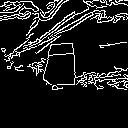cube: (32, 38, 82, 97)
